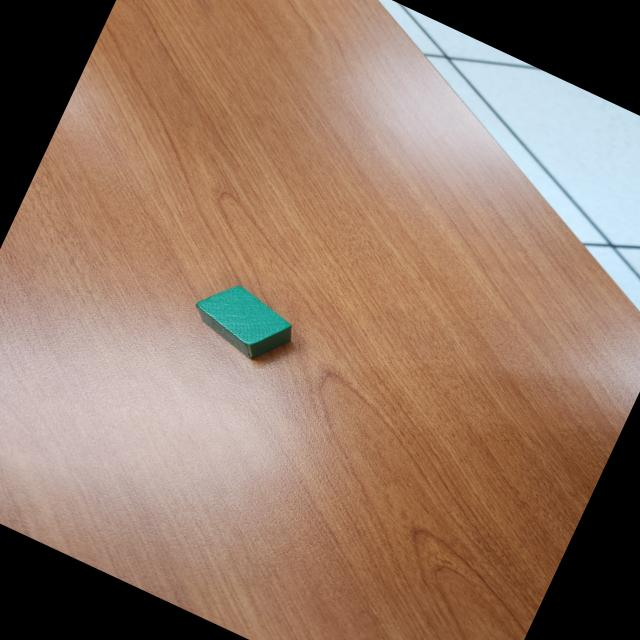green: (184, 271, 304, 372)
